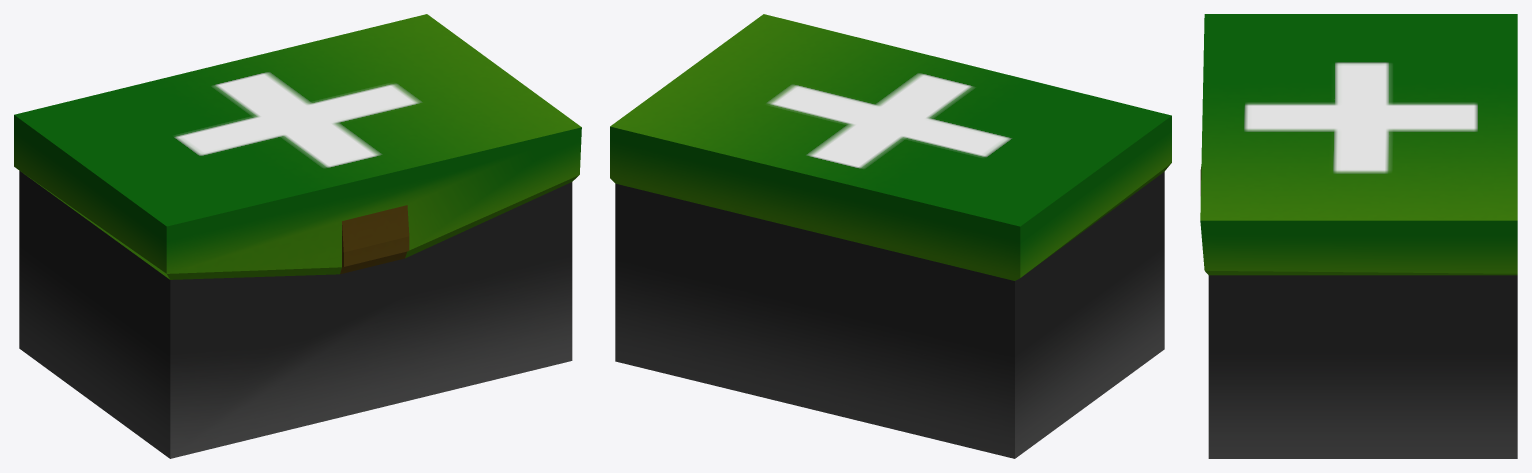
File: fps_medkit.glb
3 views of the same model, side by side, from view 1: azimuth 30°, elevation 25°; view 2: azimuth 150°, elevation 25°; view 3: azimuth 270°, elevation 25° (orthographic). The views are drawn at different scales.
Visible parts, largest first — view 1: MedKit; view 2: MedKit; view 3: MedKit.
Part boxes in pixels (left/top/right/bottom): MedKit: left=14, top=14, right=581, bottom=458; MedKit: left=610, top=14, right=1171, bottom=458; MedKit: left=1200, top=14, right=1517, bottom=458.
Bounding box in the file's own units: 1.2 × 0.6532 × 0.7792.
1 material, 1 textured.
